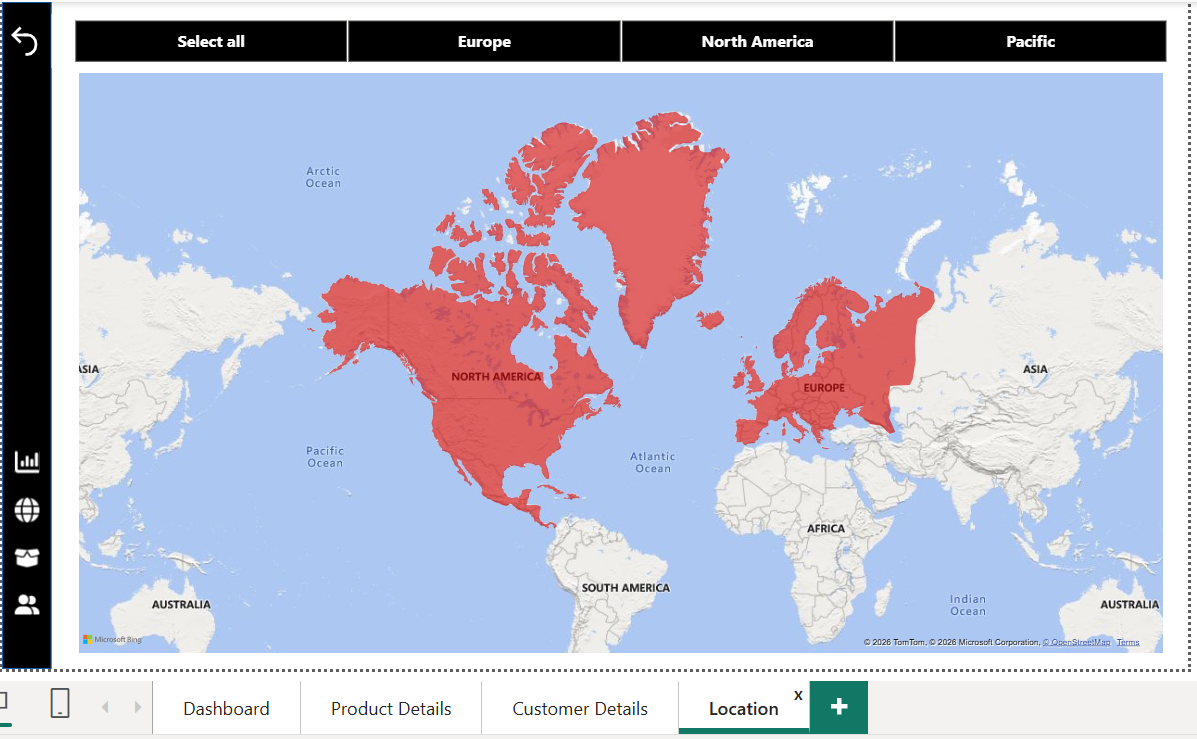

The page's visual inventory and layout, read from the dashboard file:
{"tool":"powerbi","page":{"name":"Location","canvas":[1280,720],"ordinal":3},"visuals":[{"type":"shape","box":[0,0,53.4,720],"z":0},{"type":"slicer","fields":{"Values":["Territory.Continent"]},"box":[53.4,13,1227.4,58.3],"z":1000},{"type":"actionButton","box":[9.7,471.2,34.8,51.5],"z":1000,"group":"g1"},{"type":"actionButton","box":[3.2,21,100.4,42.1],"z":2000},{"type":"actionButton","box":[9.7,522.7,34.8,51.5],"z":2000,"group":"g1"},{"type":"group","id":"g1","title":"Navigation","box":[9.7,471.2,34,207.3],"z":3000},{"type":"actionButton","box":[9.7,574.2,34.8,51.5],"z":3000,"group":"g1"},{"type":"filledMap","fields":{"Category":["Territory.Continent","Territory.Country"]},"box":[77.7,71.2,1180.4,636.4],"z":4000},{"type":"actionButton","box":[9.7,625.7,34.8,51.5],"z":4000,"group":"g1"}]}

Visuals, with their boxes on the page's 1280x720 design canvas (x1, y1, x2, y2). These are canvas units, not pixel positions in the 1197x739 screenshot, which may show the page scaled, cropped or inside an application window:
shape: (x1=0, y1=0, x2=53, y2=720)
slicer - Territory.Continent: (x1=53, y1=13, x2=1281, y2=71)
actionButton: (x1=10, y1=471, x2=44, y2=523)
actionButton: (x1=3, y1=21, x2=104, y2=63)
actionButton: (x1=10, y1=523, x2=44, y2=574)
"Navigation" group: (x1=10, y1=471, x2=44, y2=678)
actionButton: (x1=10, y1=574, x2=44, y2=626)
filledMap - Territory.Continent x Territory.Country: (x1=78, y1=71, x2=1258, y2=708)
actionButton: (x1=10, y1=626, x2=44, y2=677)
